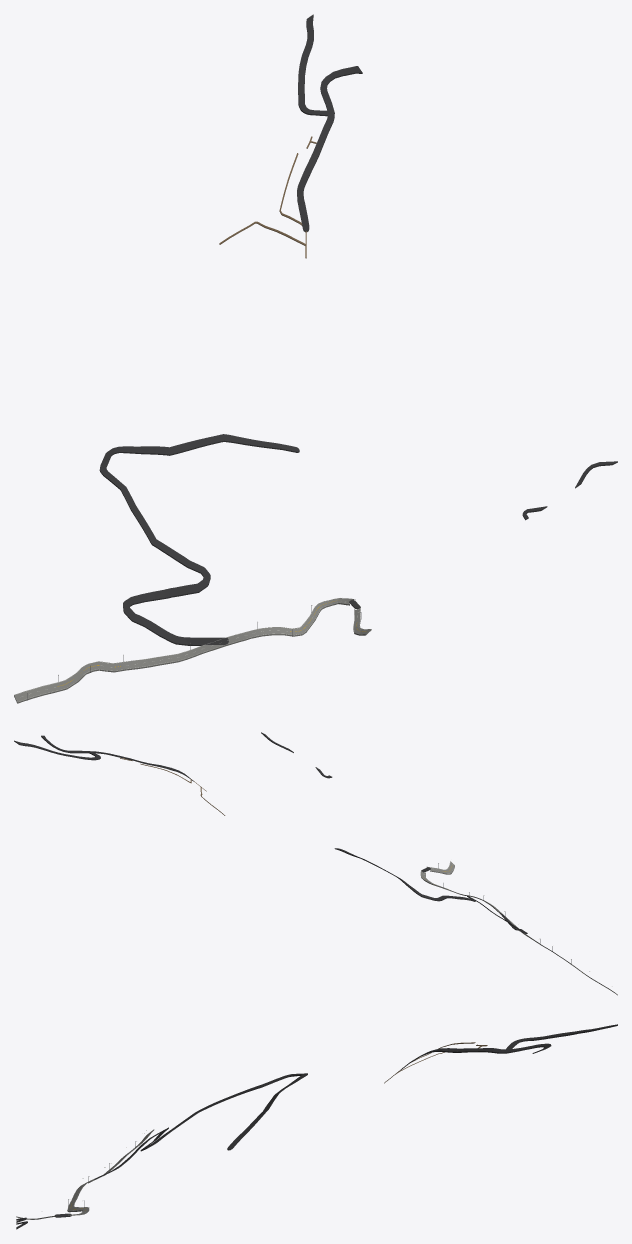
Rendered from 16-54711-29736.8acca9a4.glb.
The picture shows the model from 3 angles, top to bottom: view 1: azimuth 30°, elevation 25°; view 2: azimuth 150°, elevation 25°; view 3: azimuth 270°, elevation 25°; orthographic projection. The views are drawn at different scales.
Size of the model in its own units: 587 by 390 by 585.
